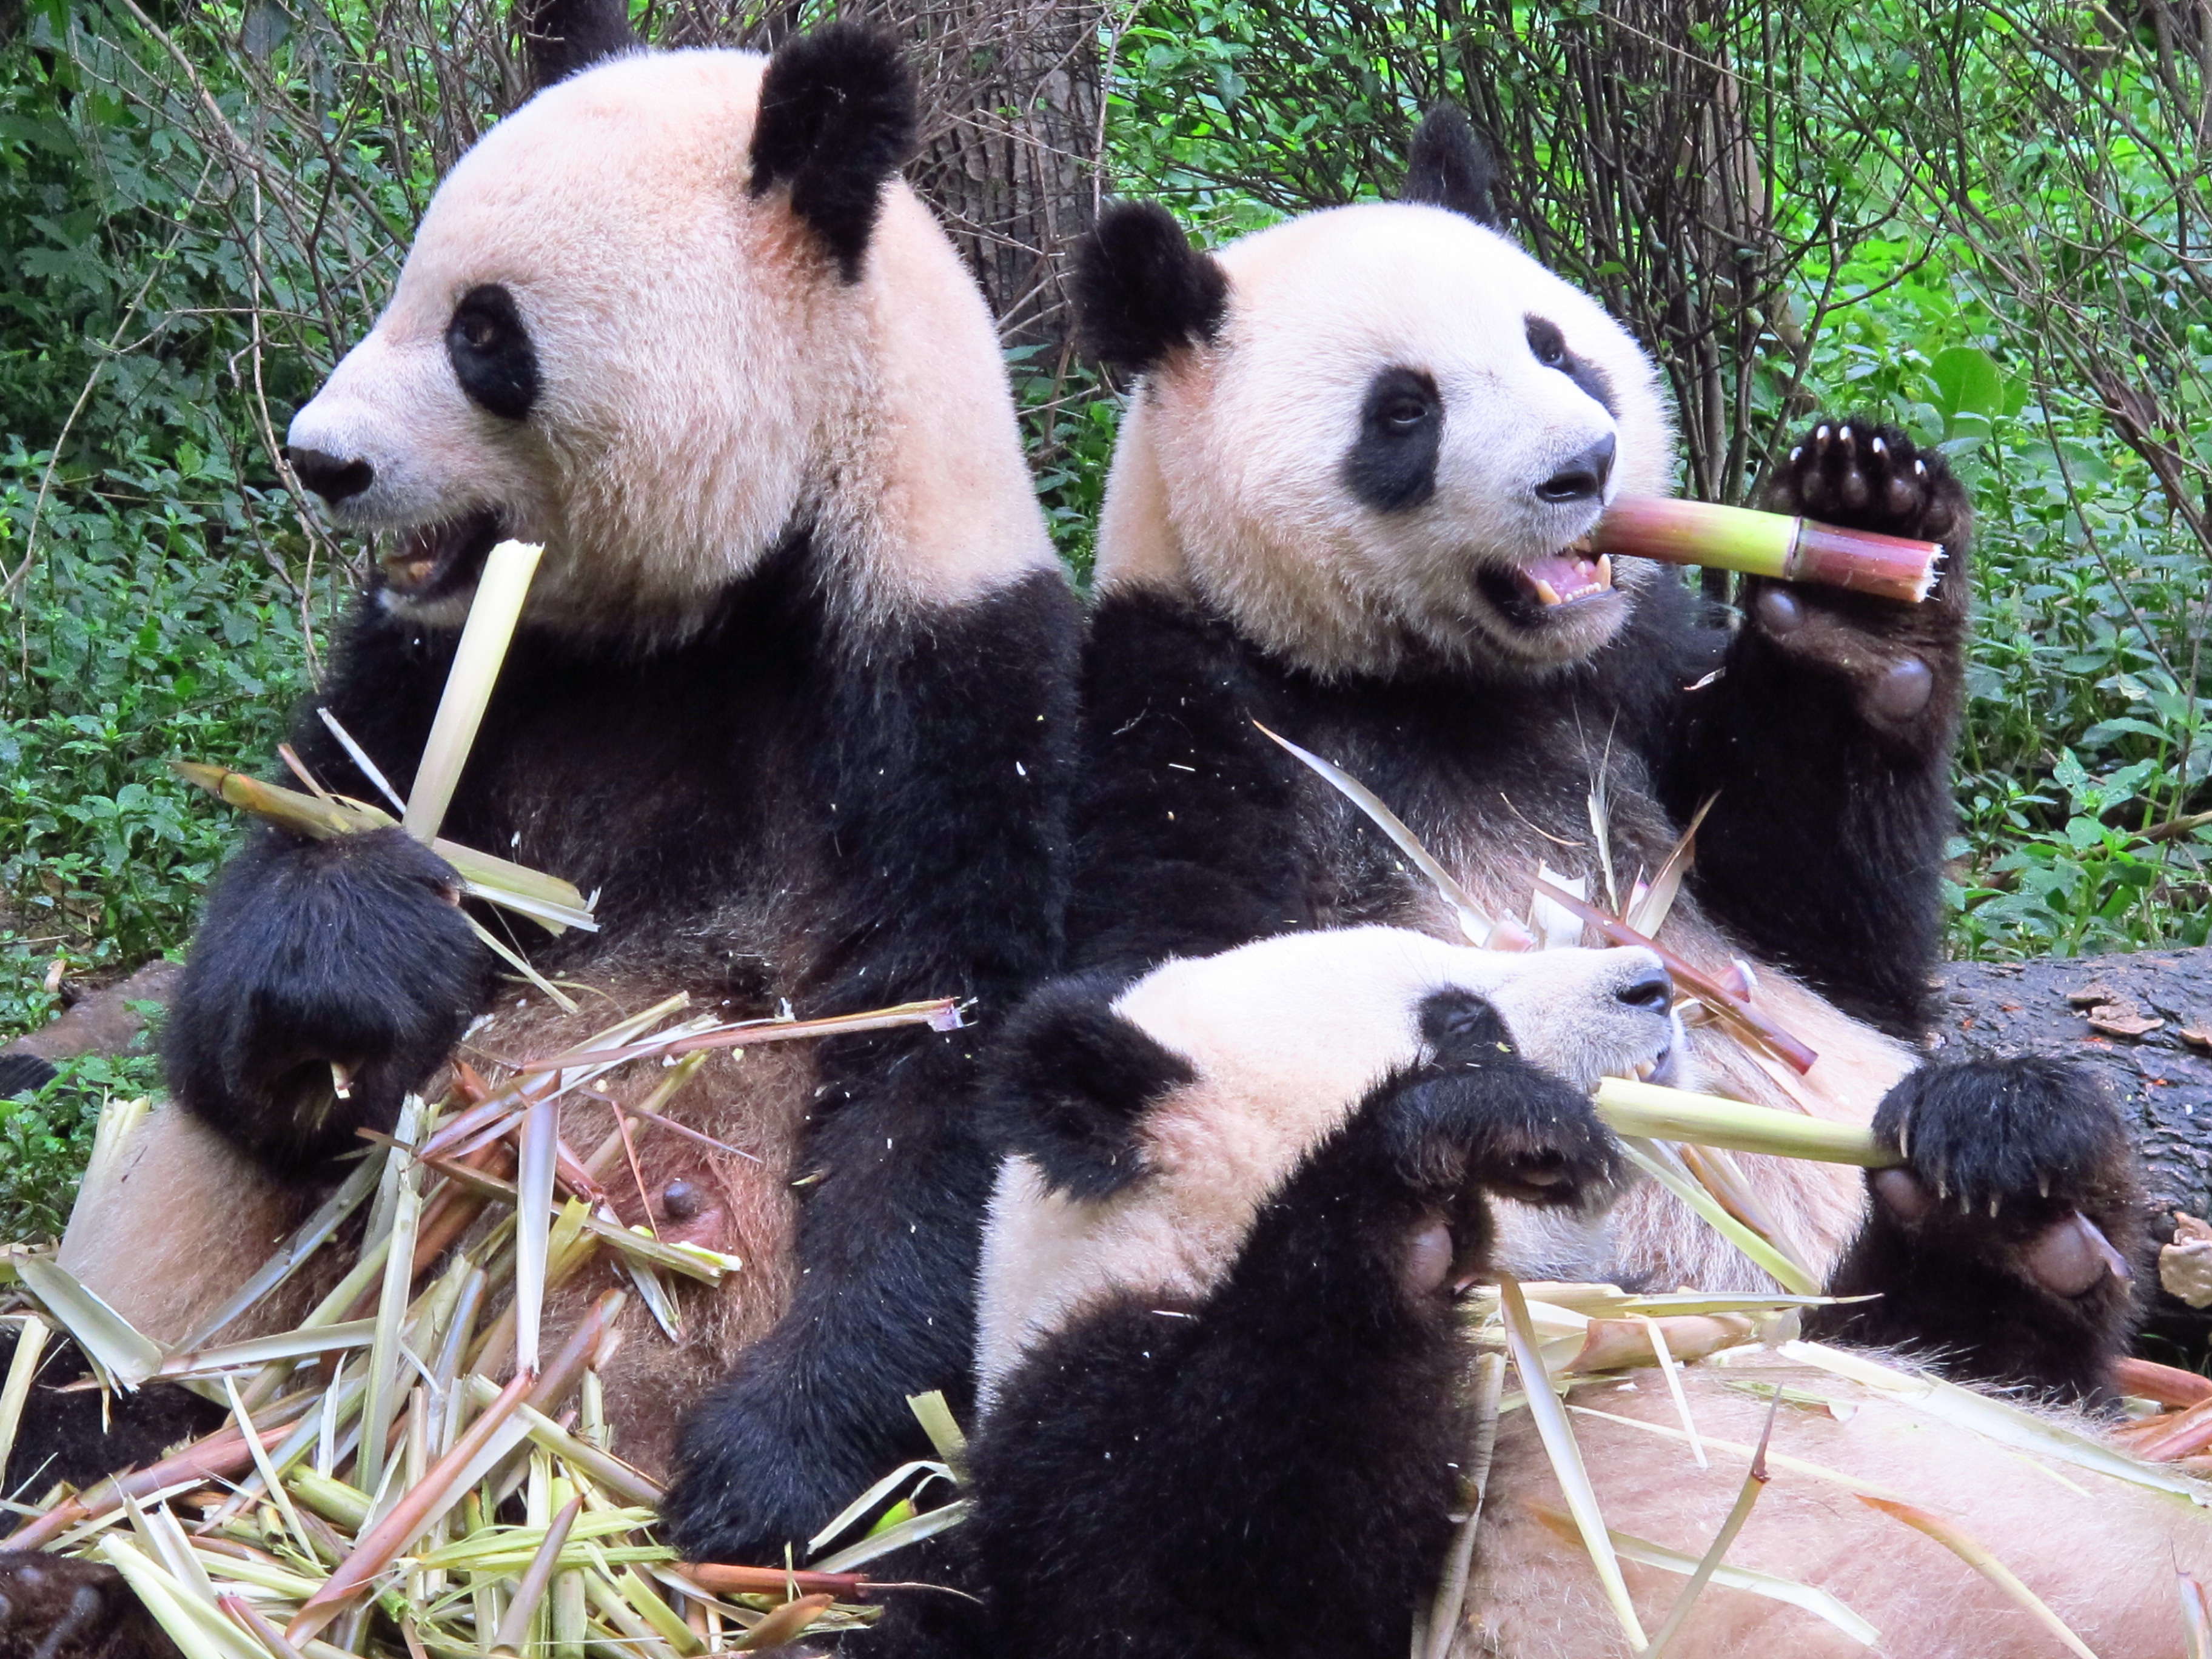panda: (31, 24, 1090, 1582), (841, 843, 2156, 1659), (1008, 139, 2017, 981)
